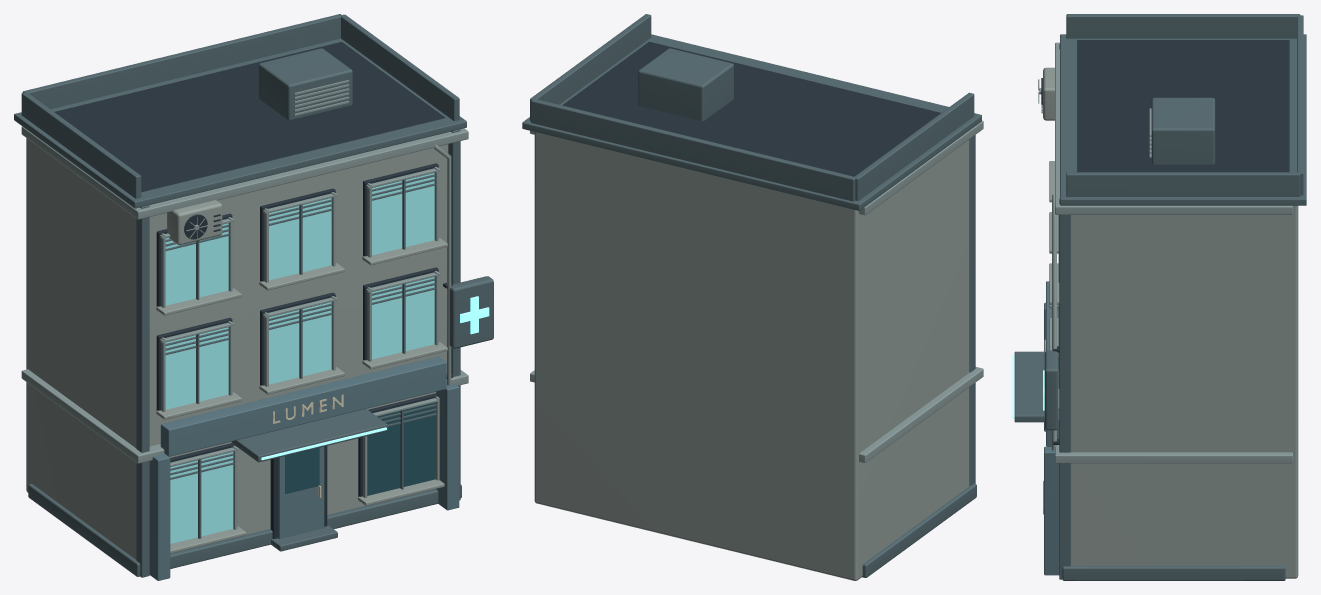
Rendered from lumen_clinic.glb.
3 views of the same model, side by side, from view 1: azimuth 30°, elevation 25°; view 2: azimuth 150°, elevation 25°; view 3: azimuth 270°, elevation 25° (orthographic).
Parts seen in each view (by area): view 1: Plaster, Steel, Ink, WindowCool, Blue, Edge, Glass, Cyan; view 2: Plaster, Steel, Ink, Edge; view 3: Plaster, Steel, Ink, Edge, Blue.
Part boxes in pixels (x1=…): Plaster: x1=26, y1=138, x2=448, y2=559; Steel: x1=14, y1=14, x2=493, y2=577; Ink: x1=54, y1=42, x2=452, y2=538; WindowCool: x1=165, y1=173, x2=434, y2=543; Blue: x1=149, y1=356, x2=459, y2=580; Edge: x1=21, y1=80, x2=468, y2=529; Glass: x1=285, y1=402, x2=435, y2=495; Cyan: x1=261, y1=296, x2=489, y2=460; Plaster: x1=534, y1=132, x2=969, y2=580; Steel: x1=522, y1=14, x2=981, y2=577; Ink: x1=562, y1=41, x2=940, y2=176; Edge: x1=530, y1=120, x2=983, y2=462; Plaster: x1=1043, y1=67, x2=1298, y2=578; Steel: x1=1014, y1=14, x2=1306, y2=580; Ink: x1=1041, y1=40, x2=1289, y2=444; Edge: x1=1038, y1=42, x2=1292, y2=463; Blue: x1=1044, y1=281, x2=1059, y2=575.
Size of the model in its own units: 9.75 by 10.9 by 6.93.
